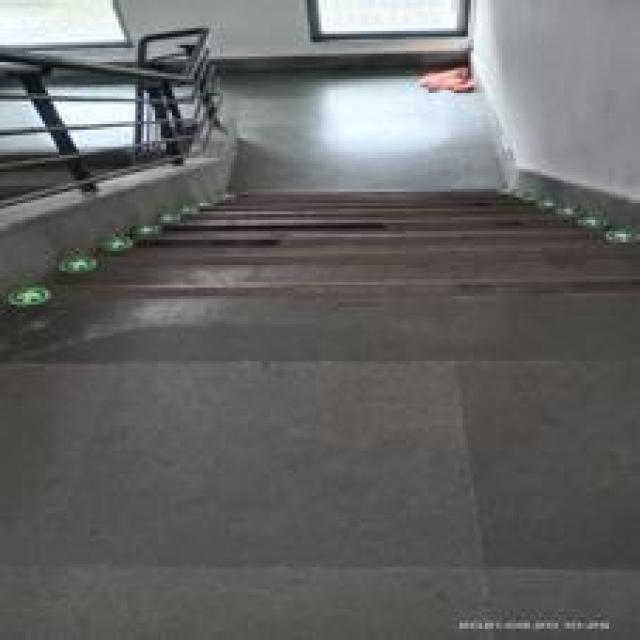downstair: (133, 173, 565, 334)
